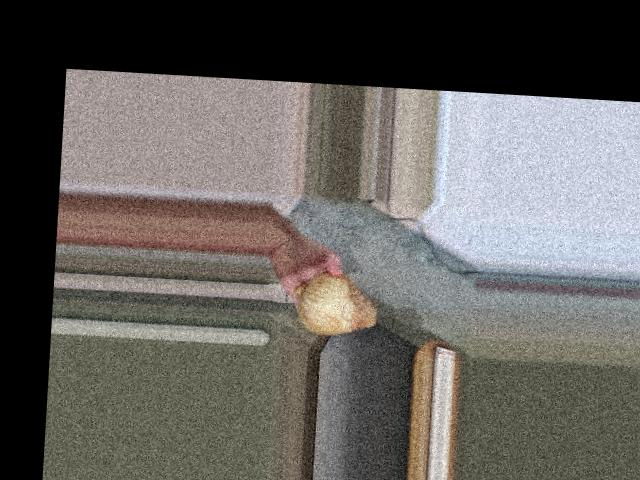onion: (298, 268, 381, 334)
